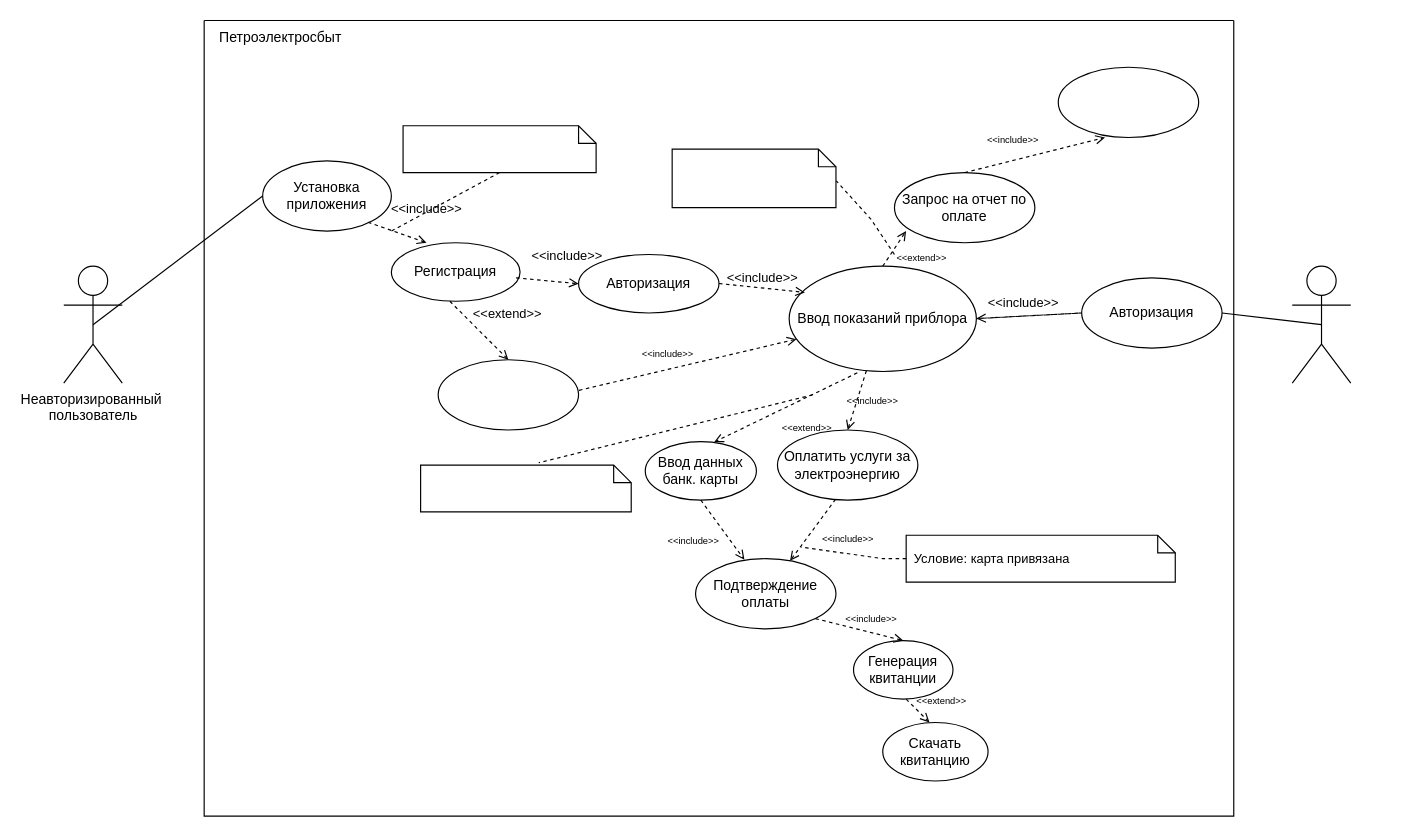
The diagram is 1405 pixels wide and 837 high, and some of its shapes have lost their labels. Here are the shapes that lost their labels. From the top down, the centre of each, then its label:
pixel 1128 101: Генерация отчета по оплате
pixel 499 149: Условие: указать ФИО, лиц.счет, пароль
pixel 753 178: Условие: указать период для отчета
pixel 1321 324: Авторизированный пользователь
pixel 508 394: Регистрация банк.карты
pixel 525 488: Условие: карта не привязана
